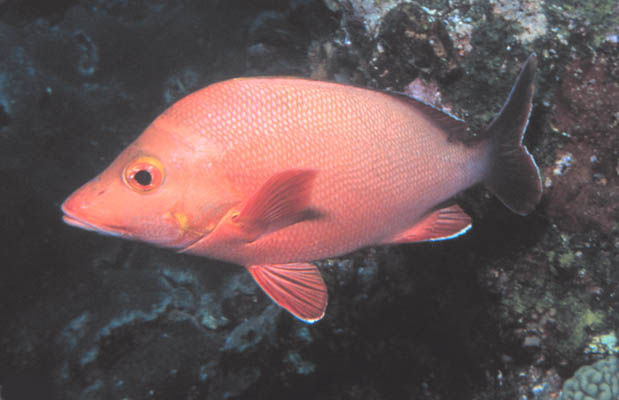fish: (60, 52, 544, 324)
